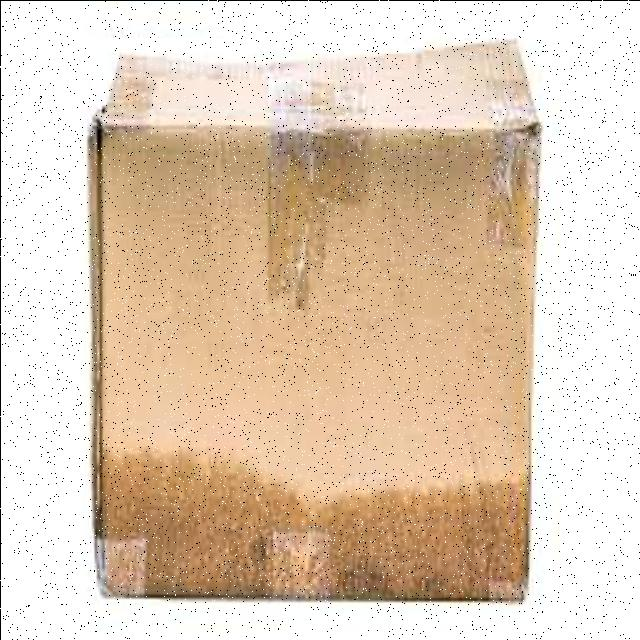defect: (82, 37, 545, 608)
